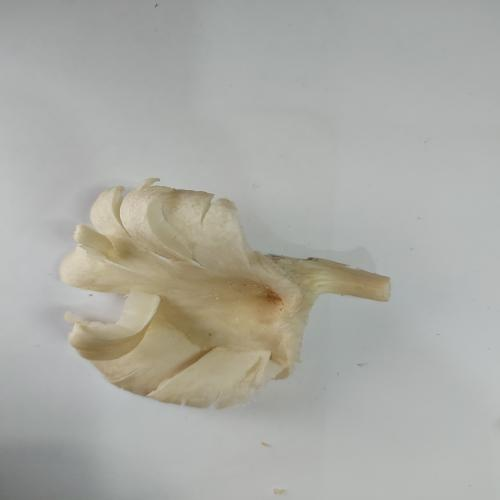Oyster Mushroom: (58, 176, 392, 410)
